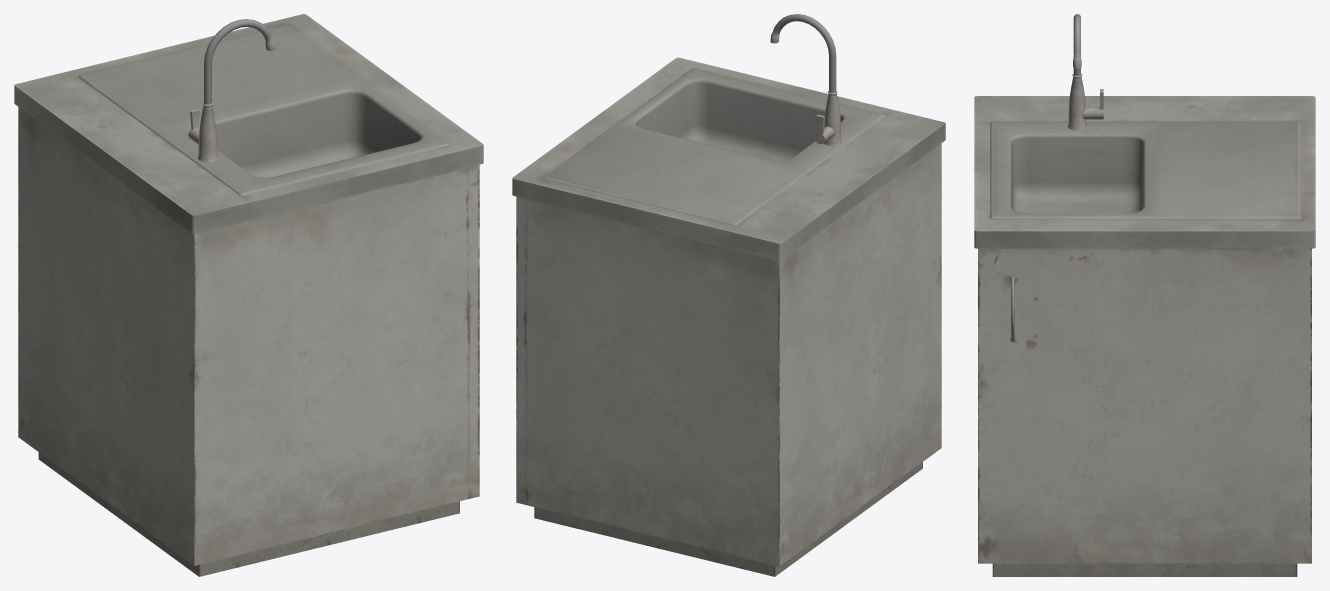
3 views of the same model, side by side, from view 1: azimuth 30°, elevation 25°; view 2: azimuth 150°, elevation 25°; view 3: azimuth 270°, elevation 25° (orthographic). The views are drawn at different scales.
Visible parts, largest first — view 1: body_low, sink_low, tap_low; view 2: body_low, sink_low, tap_low; view 3: body_low, sink_low, tap_low.
Part boxes in pixels (box(x1,y1,x2,y2)): body_low: box(14, 14, 483, 576); sink_low: box(78, 25, 449, 195); tap_low: box(188, 19, 275, 162); body_low: box(512, 57, 945, 576); sink_low: box(543, 68, 885, 225); tap_low: box(770, 14, 841, 146); body_low: box(974, 96, 1315, 576); sink_low: box(990, 121, 1301, 219); tap_low: box(1068, 14, 1103, 130).
Bounding box in the file's own units: 1.26 × 2 × 1.29.
Materials: 1 (1 with a texture image).
